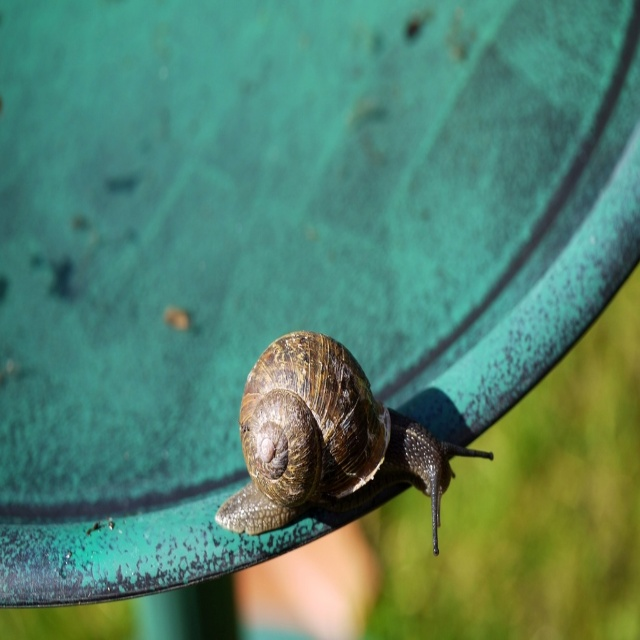Snail: (213, 329, 493, 559)
